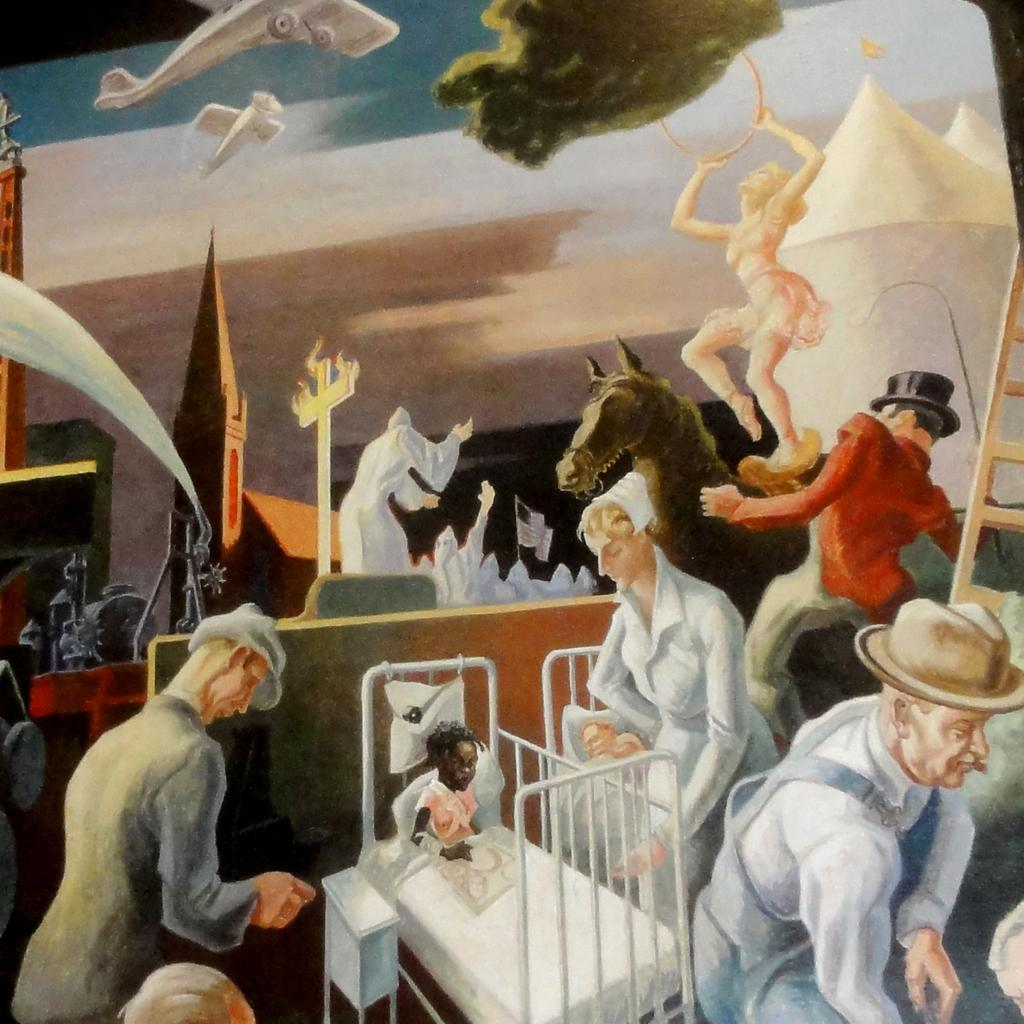Hat: (854, 595, 1023, 716), (184, 602, 281, 709), (867, 368, 957, 437)
